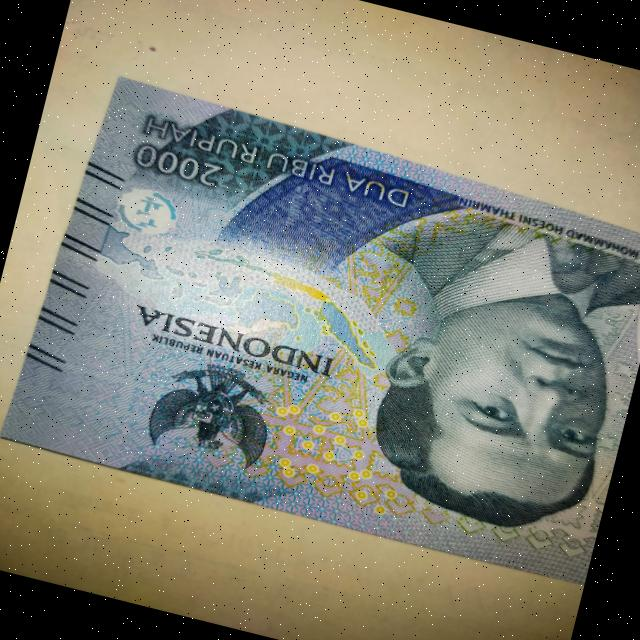2K: (0, 55, 640, 595)
